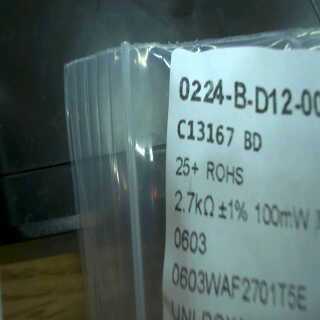2.7kR: (172, 188, 217, 221)
